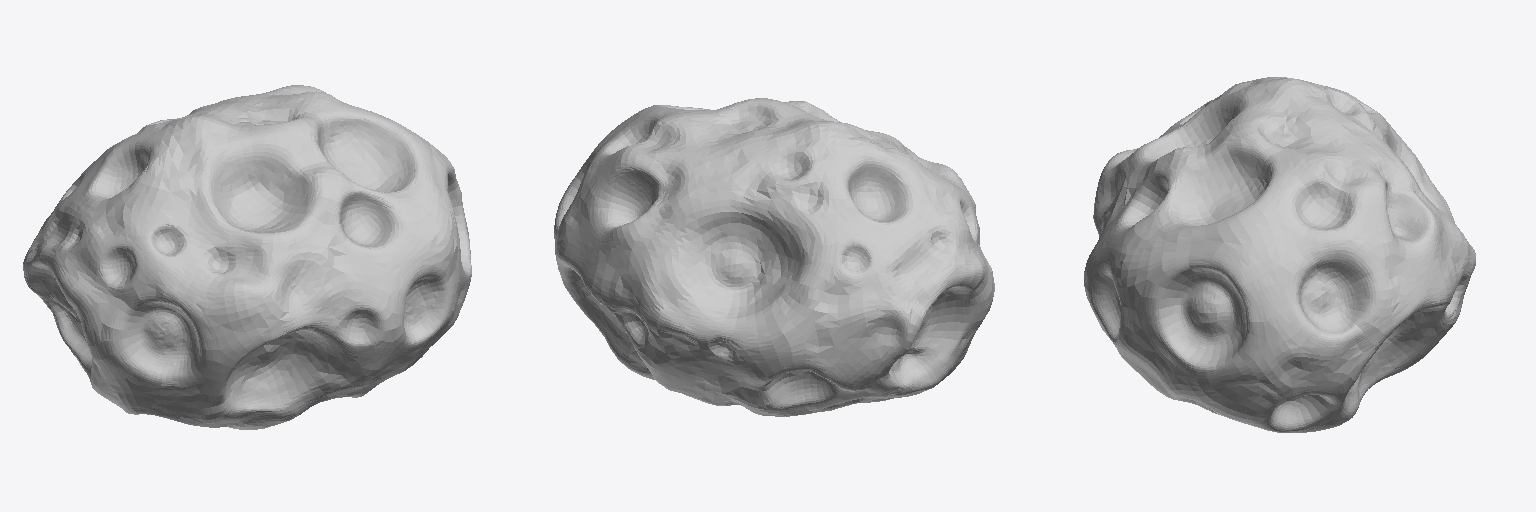
Rendered from meteoro.obj.
3 views of the same model, side by side, from view 1: azimuth 30°, elevation 25°; view 2: azimuth 150°, elevation 25°; view 3: azimuth 270°, elevation 25° (orthographic).
Visible parts, largest first — view 1: Asteroid_2b; view 2: Asteroid_2b; view 3: Asteroid_2b.
Boxes of the visible parts, <box> form: Asteroid_2b: <box>23,85,471,429</box>; Asteroid_2b: <box>554,98,994,416</box>; Asteroid_2b: <box>1084,77,1475,432</box>.
Bounding box in the file's own units: 2.3 × 1.61 × 1.94.